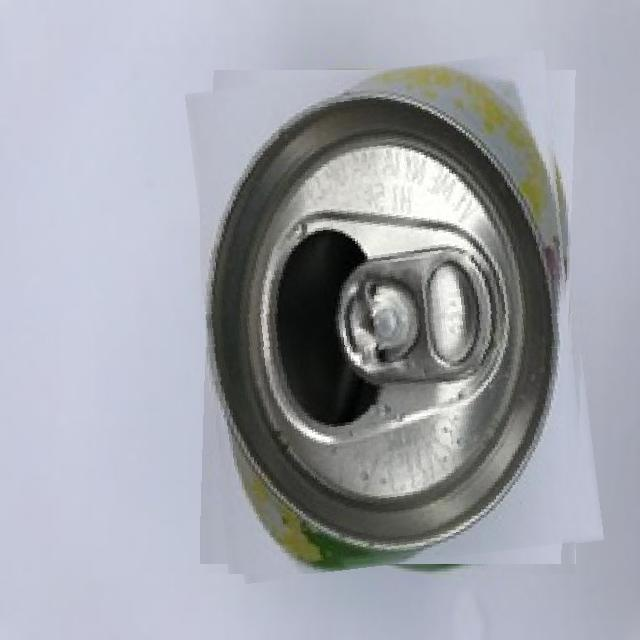recyclable: (200, 60, 590, 574)
